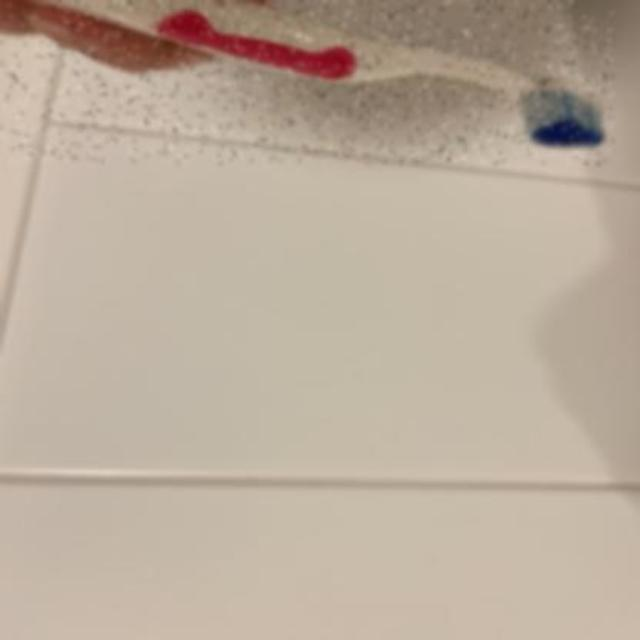toothbrush: (1, 0, 614, 164)
